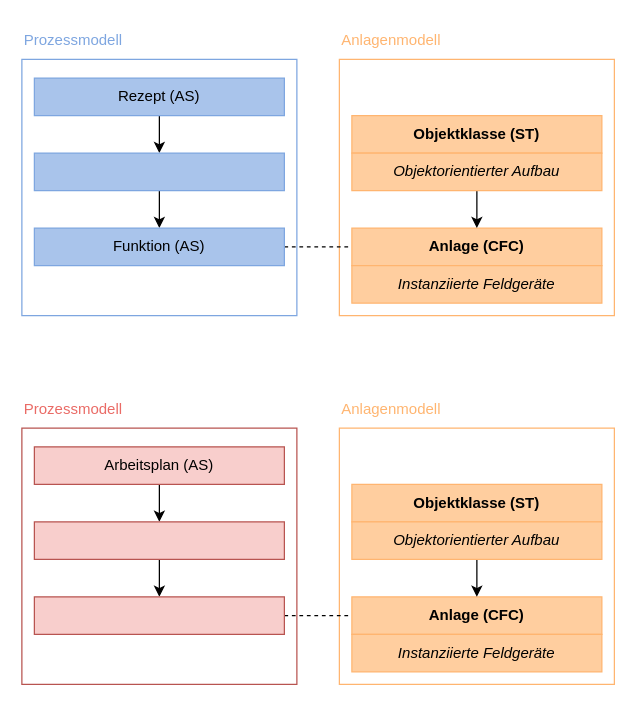
This 636x706 diagram has some shape labels left out. The shapes that lost their labels are listed below. From the top down, each one's centre as x and y in pixels, then its label:
the point at 158,171: Operation (AS)
the point at 158,540: Sequenz (AS)
the point at 158,615: Skill (AS)
